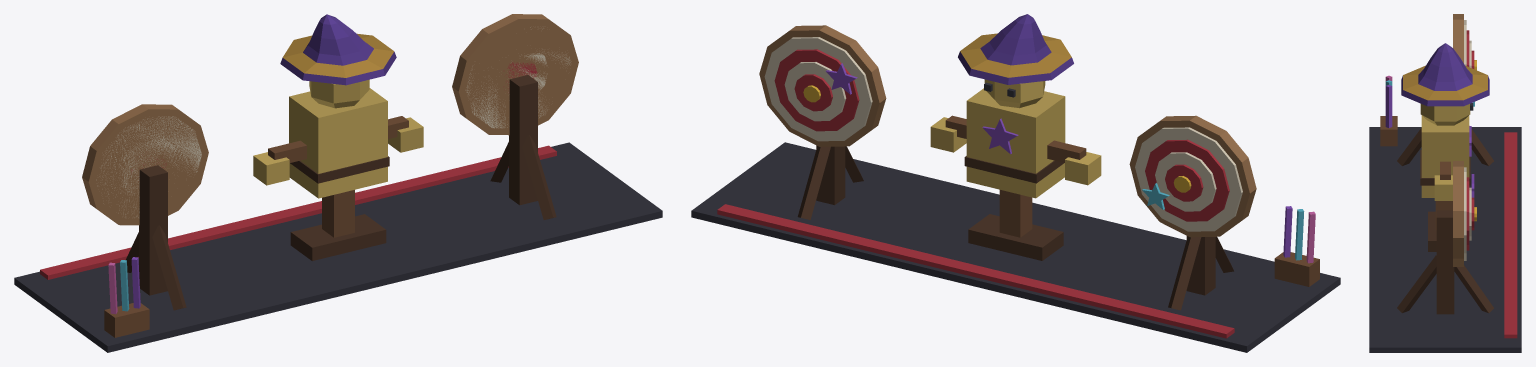
Rendered from Decor_WizardTower_Range.fbx.
3 renders of one model, left to right at view 1: azimuth 30°, elevation 25°; view 2: azimuth 150°, elevation 25°; view 3: azimuth 270°, elevation 25°, orthographic. The views are drawn at different scales.
Parts seen in each view (by area): view 1: Range_Body; view 2: Range_Body; view 3: Range_Body.
Part boxes in pixels (x1,y1,x2,y2): Range_Body: (14, 14, 662, 352); Range_Body: (691, 14, 1340, 352); Range_Body: (1369, 14, 1521, 352).
Size of the model in its own units: 24 by 9.9 by 7.
